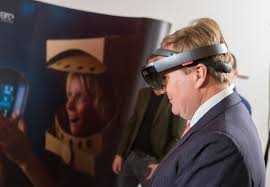hololens: (138, 44, 238, 92)
